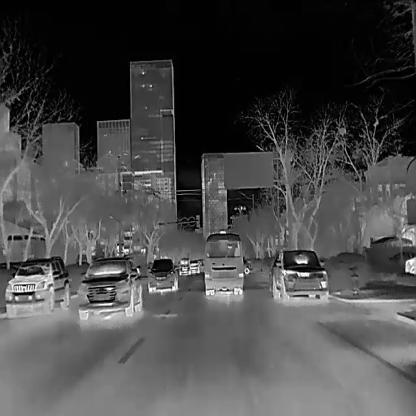bus: (202, 228, 244, 296)
car: (76, 256, 142, 321), (1, 254, 69, 313), (269, 249, 327, 300), (147, 256, 177, 292), (178, 256, 190, 274), (405, 255, 415, 274), (190, 260, 199, 273)
